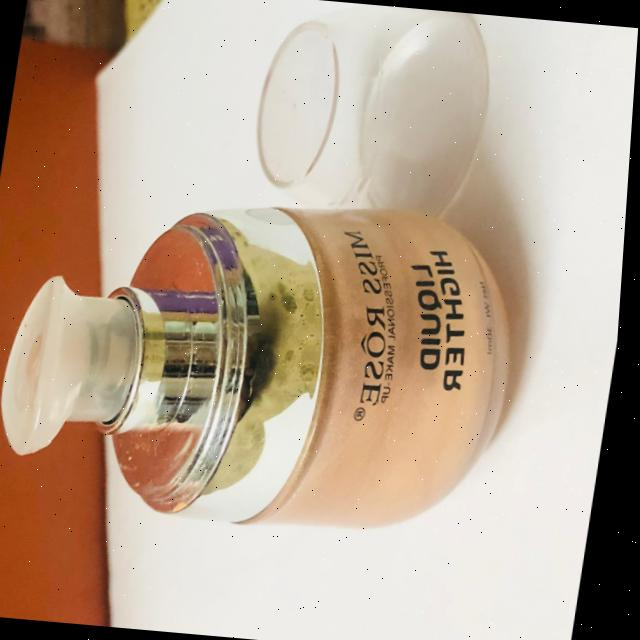highlighter: (0, 168, 593, 536)
